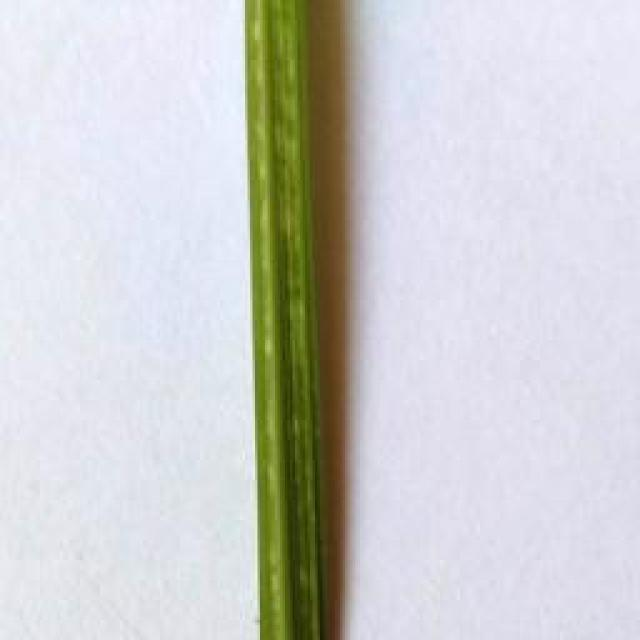Healthy-Plant: (230, 0, 342, 640)
